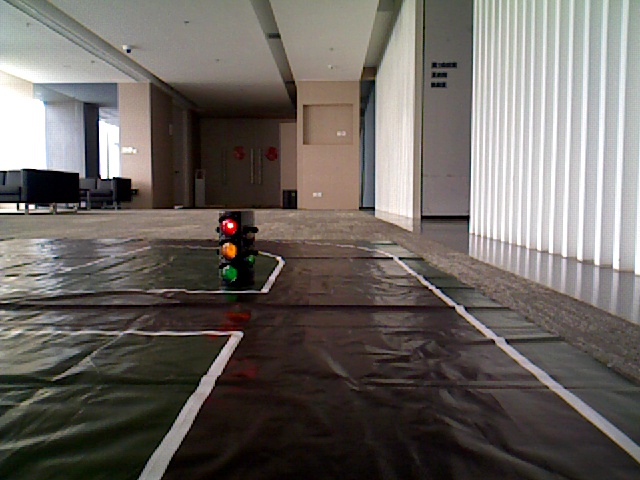red: (219, 214, 242, 284)
